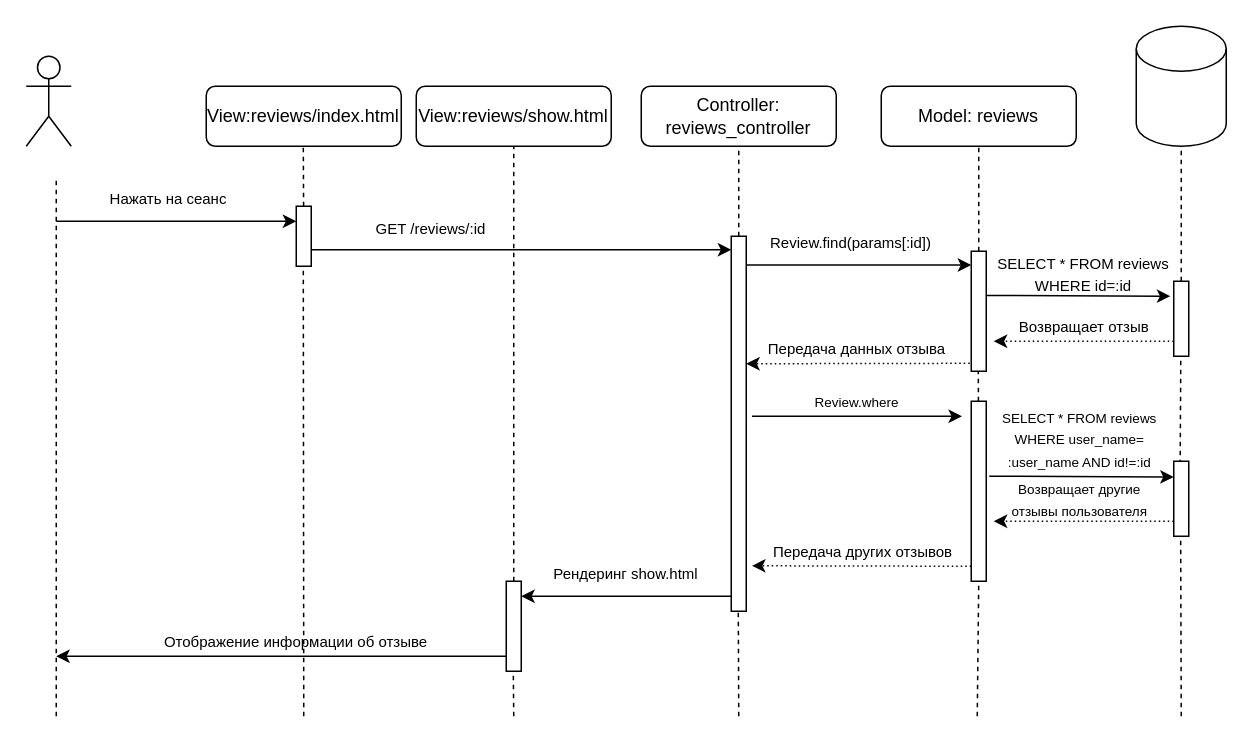
The diagram is 1253 pixels wide and 744 high, and some of its shapes have lost their labels. Here are the shapes that lost their labels. From the top down, the centre of each, then its label:
the point at 48,100: User
the point at 1180,85: DB
